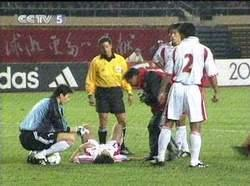Fall-Detected: (69, 119, 130, 163)
